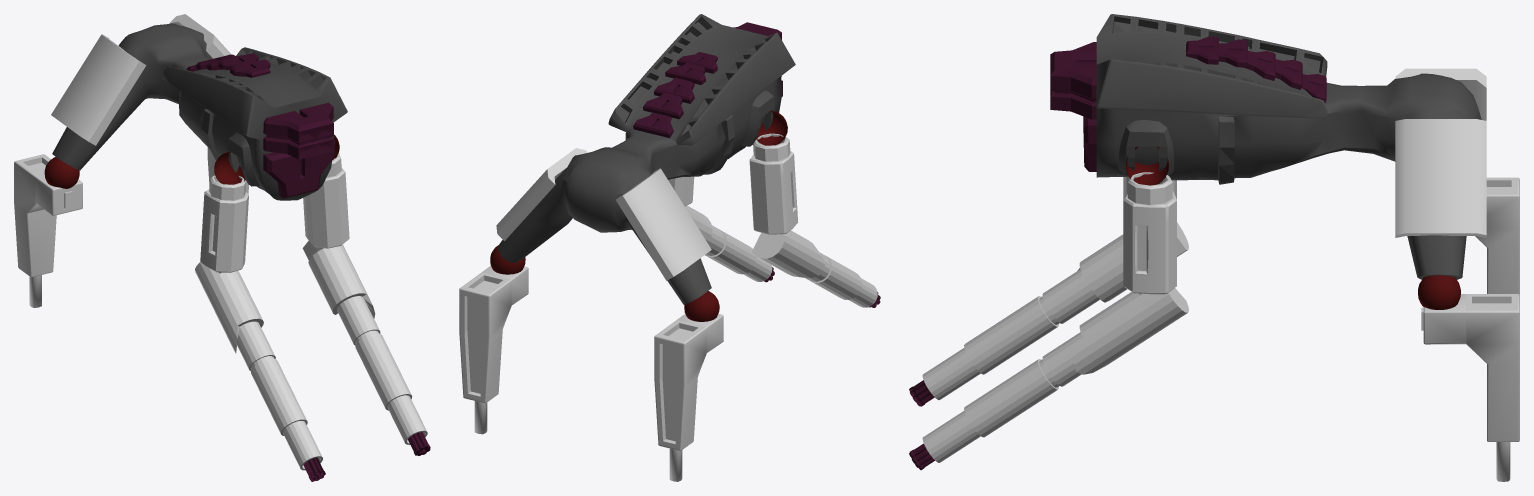
The model's file is Proxy.FBX.
The picture shows the model from 3 angles, left to right: view 1: azimuth 30°, elevation 25°; view 2: azimuth 150°, elevation 25°; view 3: azimuth 270°, elevation 25°; orthographic projection. The views are drawn at different scales.
Parts seen in each view (by area): view 1: MainBody, MiniGunBase001, MiniGunBase, Lowerleg001, LegPlate002, UpperArm001, Head, UpperArm, Chestpiece, BallJoint003, LegPlate1, BallJoint002 (+1 smaller); view 2: MainBody, Lowerleg001, Lowerleg, LegPlate002, MiniGunBase001, UpperArm001, MiniGunBase, LegPlate1, BallJoint003, Spine002, Spine001, BallJoint002 (+5 smaller); view 3: MainBody, MiniGunBase, LegPlate1, MiniGunBase001, Lowerleg, UpperArm, Lowerleg001, Head, LegPlate002, BallJoint, Spine005, BallJoint001 (+4 smaller).
Part boxes in pixels (bbox=[...]): MainBody: bbox=[52, 23, 347, 200]; MiniGunBase001: bbox=[195, 262, 322, 470]; MiniGunBase: bbox=[302, 241, 427, 444]; Lowerleg001: bbox=[14, 154, 82, 307]; LegPlate002: bbox=[51, 34, 146, 145]; UpperArm001: bbox=[200, 175, 248, 272]; Head: bbox=[263, 102, 333, 159]; UpperArm: bbox=[303, 153, 349, 248]; Chestpiece: bbox=[263, 139, 335, 198]; BallJoint003: bbox=[44, 157, 79, 188]; LegPlate1: bbox=[169, 14, 231, 58]; BallJoint002: bbox=[214, 151, 245, 184]; MainBody: bbox=[497, 14, 795, 304]; Lowerleg001: bbox=[654, 313, 723, 481]; Lowerleg: bbox=[459, 266, 528, 434]; LegPlate002: bbox=[616, 168, 711, 280]; MiniGunBase001: bbox=[752, 230, 877, 307]; UpperArm001: bbox=[749, 133, 798, 234]; MiniGunBase: bbox=[685, 205, 772, 281]; LegPlate1: bbox=[496, 148, 587, 241]; BallJoint003: bbox=[684, 291, 719, 321]; Spine002: bbox=[642, 92, 683, 119]; Spine001: bbox=[633, 112, 673, 137]; BallJoint002: bbox=[756, 110, 787, 145]; MainBody: bbox=[1096, 14, 1481, 279]; MiniGunBase: bbox=[922, 288, 1188, 462]; LegPlate1: bbox=[1395, 119, 1486, 237]; MiniGunBase001: bbox=[922, 222, 1188, 399]; Lowerleg: bbox=[1421, 294, 1519, 481]; UpperArm: bbox=[1123, 172, 1176, 294]; Lowerleg001: bbox=[1475, 177, 1519, 295]; Head: bbox=[1050, 42, 1096, 119]; LegPlate002: bbox=[1395, 68, 1486, 120]; BallJoint: bbox=[1418, 275, 1460, 309]; Spine005: bbox=[1186, 36, 1218, 64]; BallJoint001: bbox=[1126, 146, 1168, 185].
Bounding box in the file's own units: 23.2 × 32.19 × 44.46.
